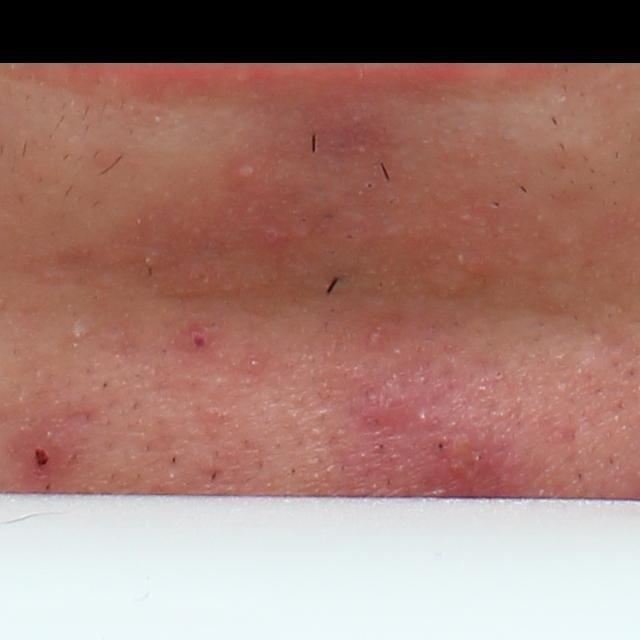comedo: (492, 369, 505, 381)
papule: (361, 383, 423, 426), (18, 436, 69, 485), (180, 322, 214, 349)
pustule: (231, 158, 259, 184)
